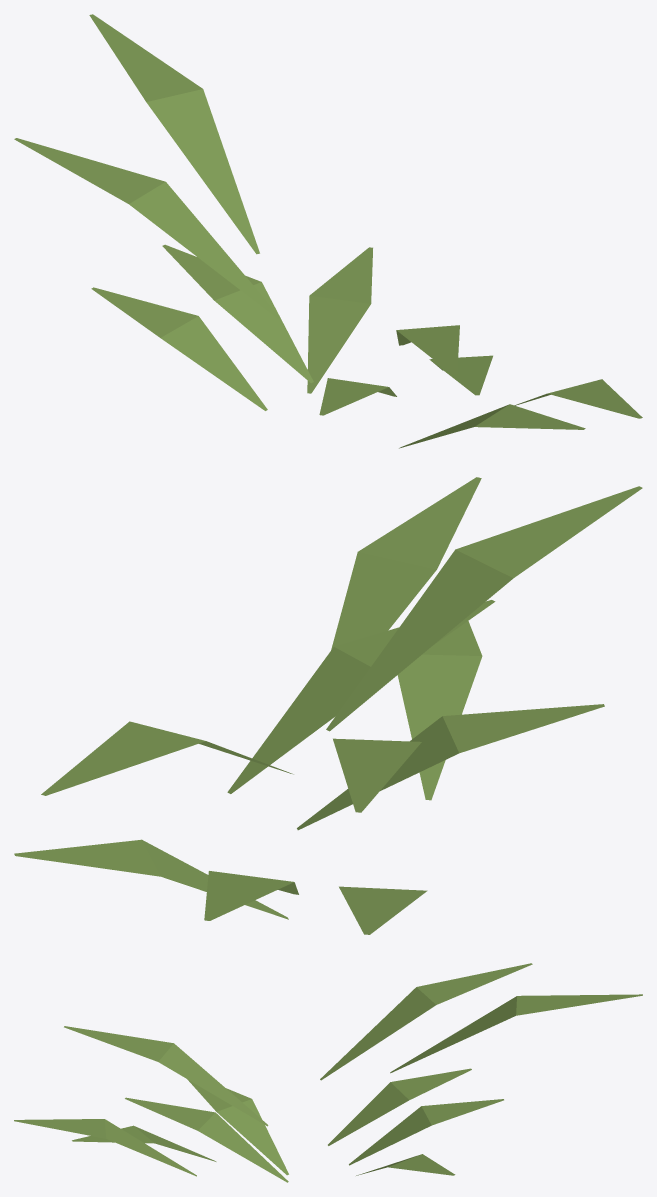
File: shrub_lod1.glb
3 renders of one model, top to bottom at view 1: azimuth 30°, elevation 25°; view 2: azimuth 150°, elevation 25°; view 3: azimuth 270°, elevation 25°, orthographic. The views are drawn at different scales.
Visible parts, largest first — view 1: Leaves; view 2: Leaves; view 3: Leaves.
Boxes of the visible parts, x1,y1,x2,y2 form: Leaves: [14, 14, 642, 448]; Leaves: [14, 477, 642, 934]; Leaves: [14, 963, 642, 1182].
Bounding box in the file's own units: 0.7055 × 0.5276 × 1.73.
